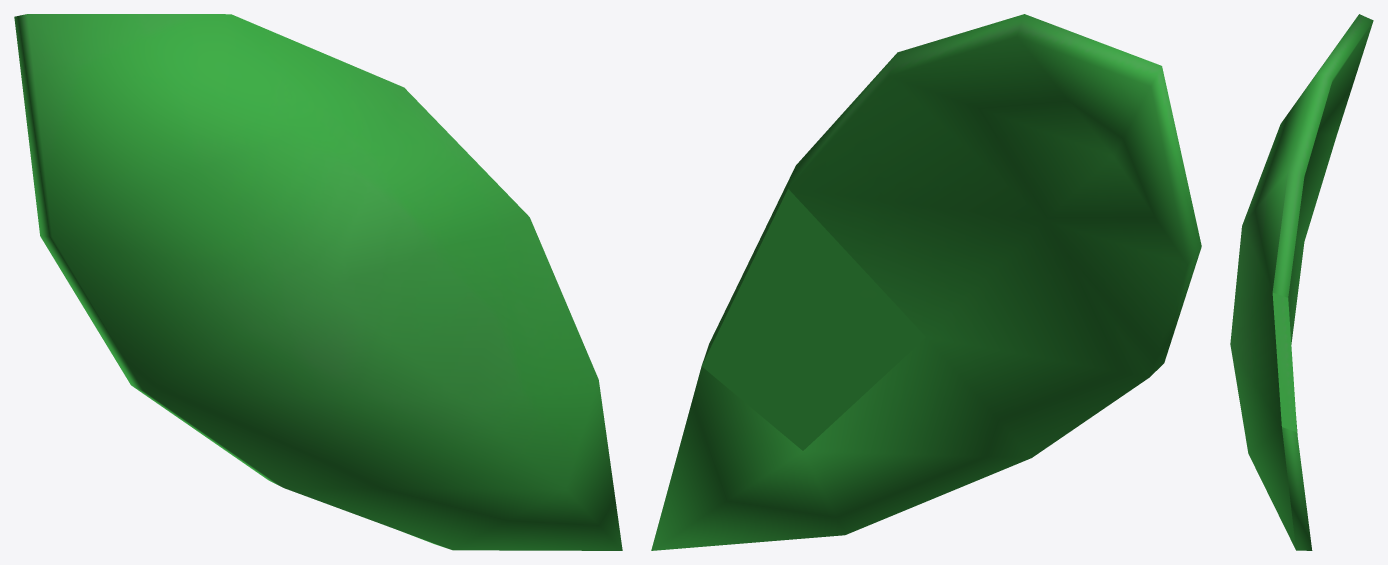
The model's file is Leaf 2.fbx.
The picture shows the model from 3 angles, left to right: view 1: azimuth 30°, elevation 25°; view 2: azimuth 150°, elevation 25°; view 3: azimuth 270°, elevation 25°; orthographic projection. The views are drawn at different scales.
Visible parts, largest first — view 1: LEaves:Group39495, LEaves:Group32470; view 2: LEaves:Group49495, LEaves:Group32470; view 3: LEaves:Group39495, LEaves:Group32470, LEaves:Group49495.
Part boxes in pixels (x1,y1,x2,y2): LEaves:Group39495: [27, 14, 622, 550]; LEaves:Group32470: [14, 14, 445, 547]; LEaves:Group49495: [651, 37, 1187, 550]; LEaves:Group32470: [702, 14, 1201, 376]; LEaves:Group39495: [1230, 29, 1348, 549]; LEaves:Group32470: [1272, 14, 1373, 550]; LEaves:Group49495: [1288, 21, 1373, 434].
Size of the model in its own units: 0.6376 by 0.7026 by 0.2404.
1 material, 1 textured.
